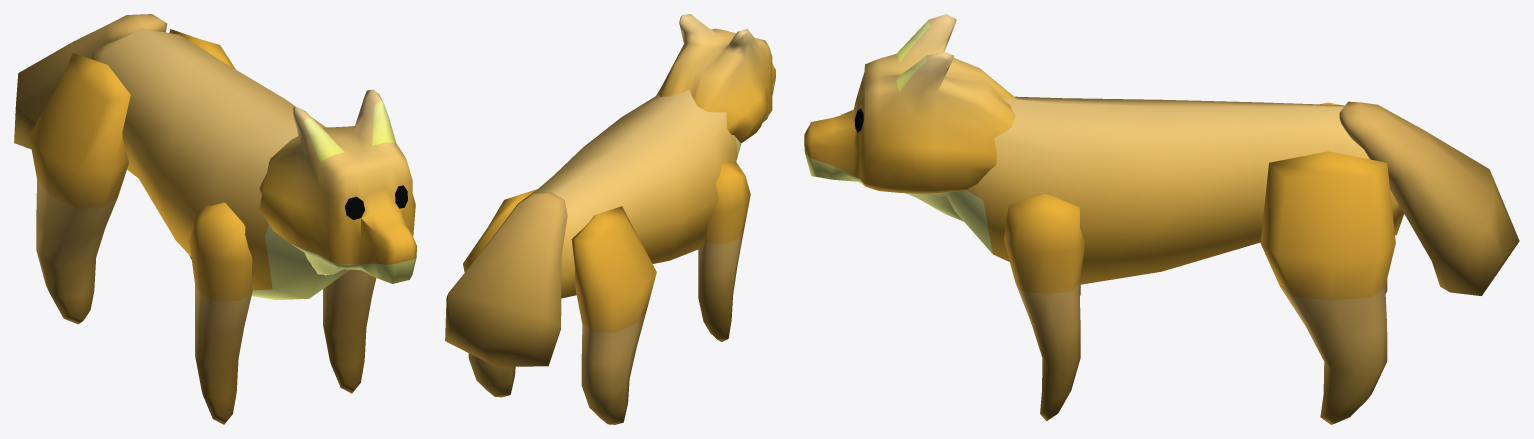
The model's file is FOX_1.fbx.
The picture shows the model from 3 angles, left to right: view 1: azimuth 30°, elevation 25°; view 2: azimuth 150°, elevation 25°; view 3: azimuth 270°, elevation 25°; orthographic projection. The views are drawn at different scales.
Visible parts, largest first — view 1: pCube77; view 2: pCube77; view 3: pCube77.
Part boxes in pixels (bbox=[...]): pCube77: bbox=[14, 14, 416, 424]; pCube77: bbox=[445, 14, 775, 424]; pCube77: bbox=[804, 14, 1519, 424].
Size of the model in its own units: 113 by 178 by 325.
